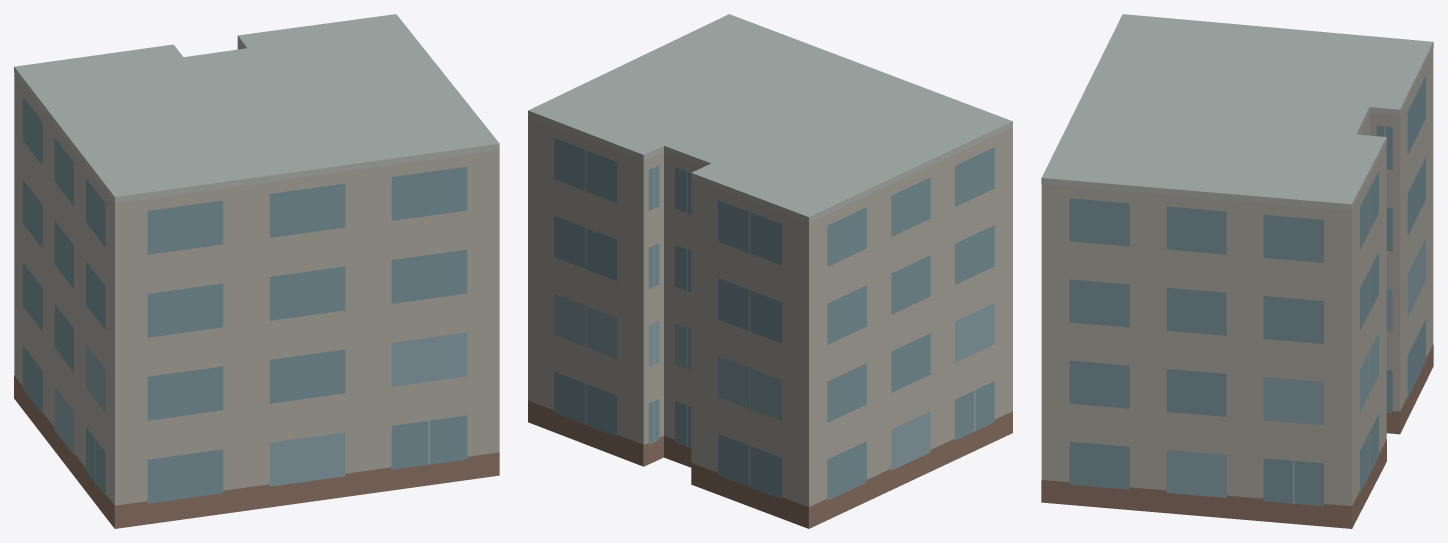
File: survey-upis-32984096.glb
3 views of the same model, side by side, from view 1: azimuth 30°, elevation 25°; view 2: azimuth 150°, elevation 25°; view 3: azimuth 270°, elevation 25° (orthographic). The views are drawn at different scales.
Visible parts, largest first — view 1: survey-upis-32984096.tmp; view 2: survey-upis-32984096.tmp; view 3: survey-upis-32984096.tmp.
Part boxes in pixels (<box>): survey-upis-32984096.tmp: <box>14,14,499,528</box>; survey-upis-32984096.tmp: <box>528,14,1012,528</box>; survey-upis-32984096.tmp: <box>1041,14,1433,528</box>.
Size of the model in its own units: 16.11 by 12.8 by 14.02.
